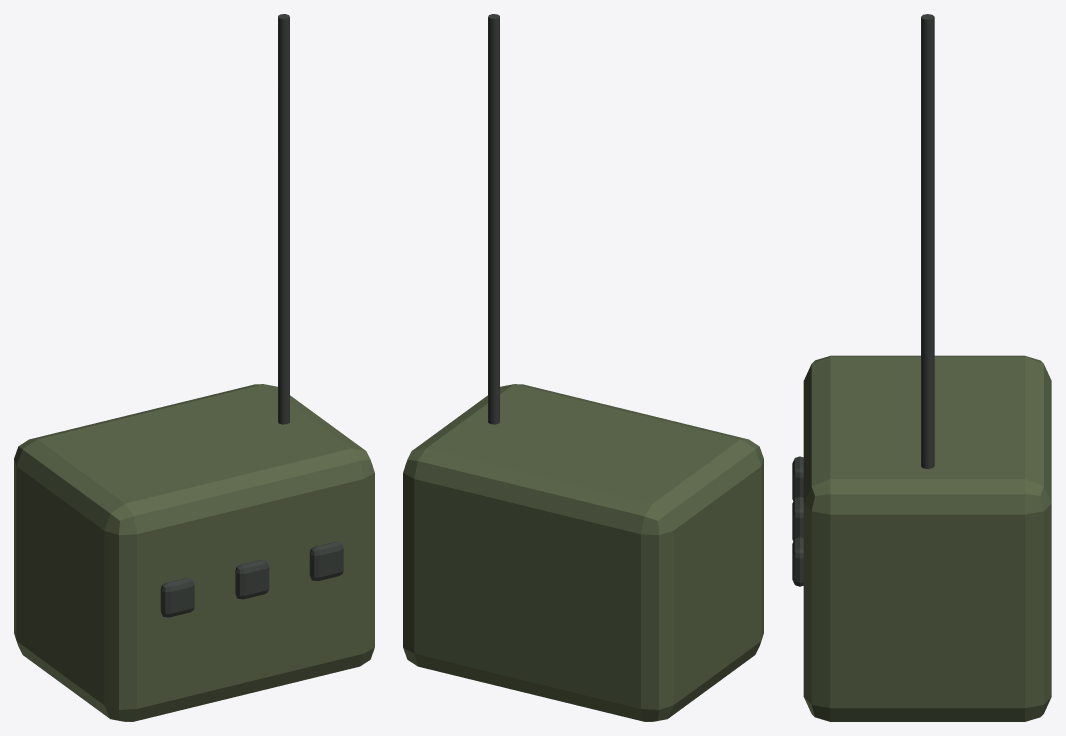
File: prop-wireless.glb
3 views of the same model, side by side, from view 1: azimuth 30°, elevation 25°; view 2: azimuth 150°, elevation 25°; view 3: azimuth 270°, elevation 25° (orthographic). The views are drawn at different scales.
Visible parts, largest first — view 1: Armor, Steel; view 2: Armor, Steel; view 3: Armor, Steel.
Boxes of the visible parts, x1,y1,x2,y2 form: Armor: (14, 384, 374, 721); Steel: (160, 14, 343, 617); Armor: (403, 384, 763, 721); Steel: (488, 14, 499, 424); Armor: (803, 355, 1051, 721); Steel: (792, 14, 934, 586).
Size of the model in its own units: 0.9 by 2 by 0.68.
